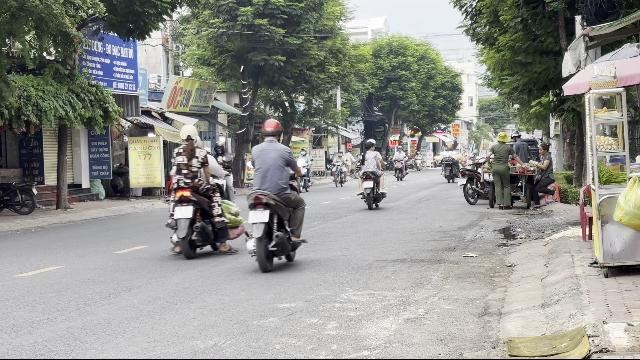helmet: (260, 118, 282, 140), (178, 124, 198, 146)
licenseplate: (248, 209, 270, 222), (174, 208, 192, 218)
motorcyclist: (162, 123, 242, 259), (241, 117, 307, 270)
